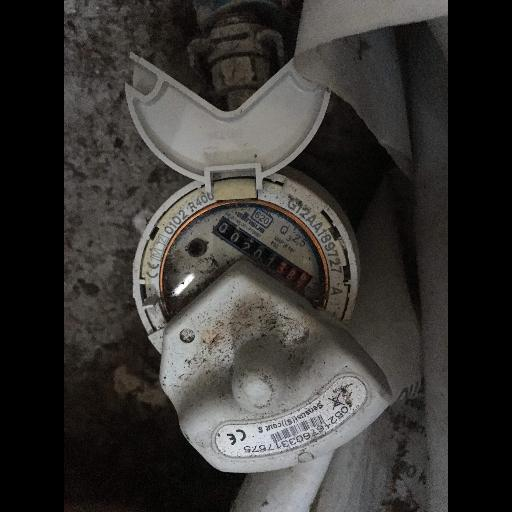0: (249, 243, 270, 264), (214, 218, 234, 239), (225, 227, 245, 248)
1: (260, 251, 281, 272)
2: (237, 235, 257, 256)
3: (273, 258, 292, 278)
6: (292, 270, 313, 293)
8: (282, 265, 300, 285)
border_water_meter_number: (211, 215, 313, 293)
